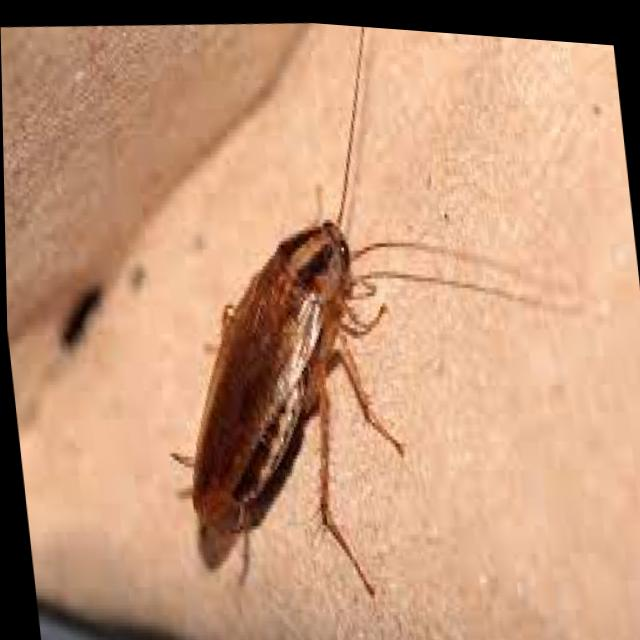Cockroach: (116, 7, 615, 626)
